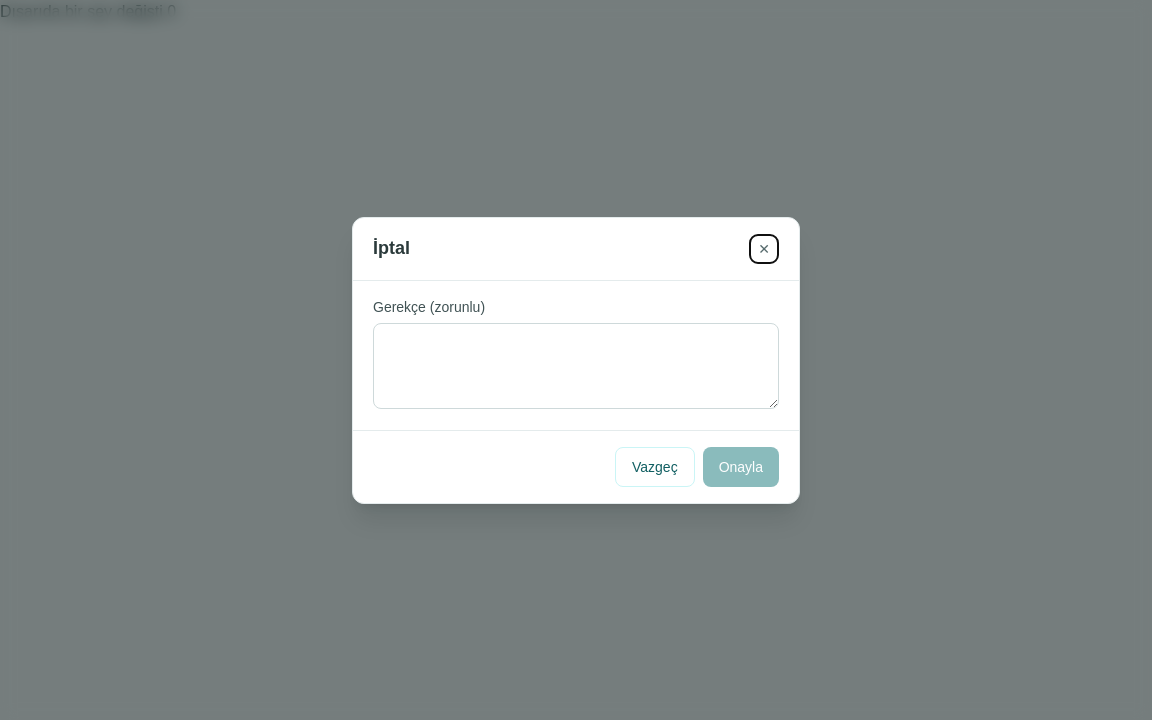
Test case: ConfirmDialog › üst bileşen yeniden render olunca yazılan gerekçe durur
This screenshot has width=1152, height=720.
Type "Mükerrer kayıt" into the text box at {"x": 576, "y": 366}, box left=373, top=322, right=779, bottom=408
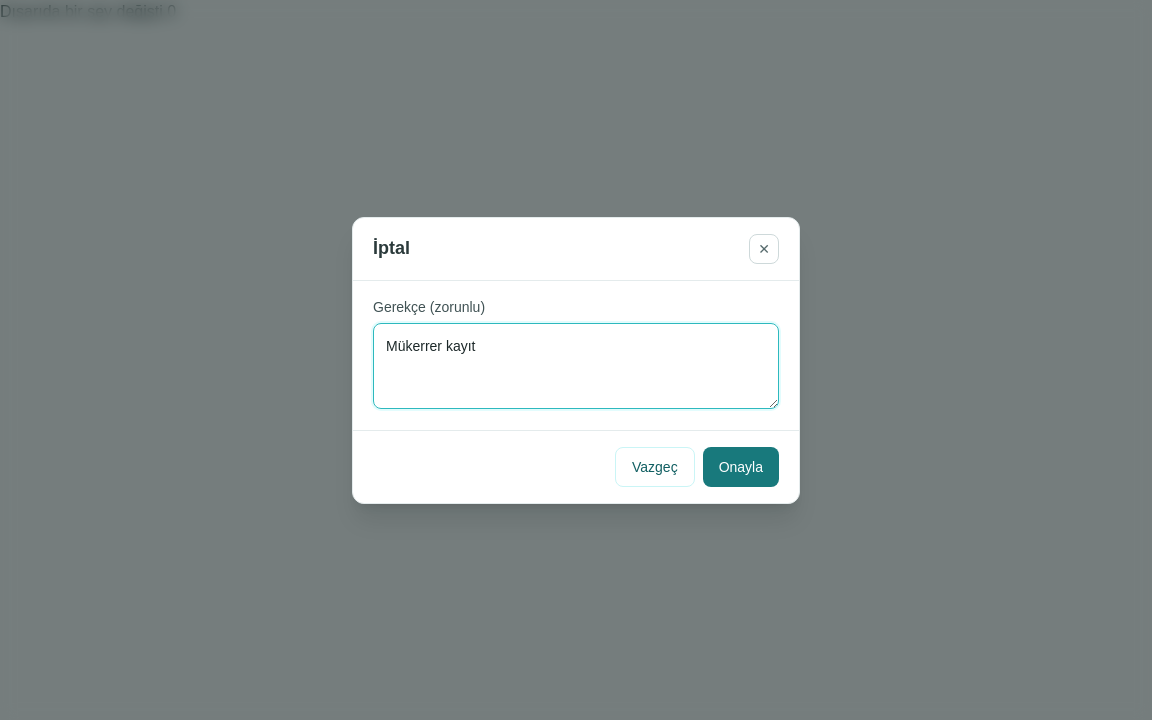
Type " düzeltiliyor" into the text box at {"x": 576, "y": 366}, box left=373, top=322, right=779, bottom=408
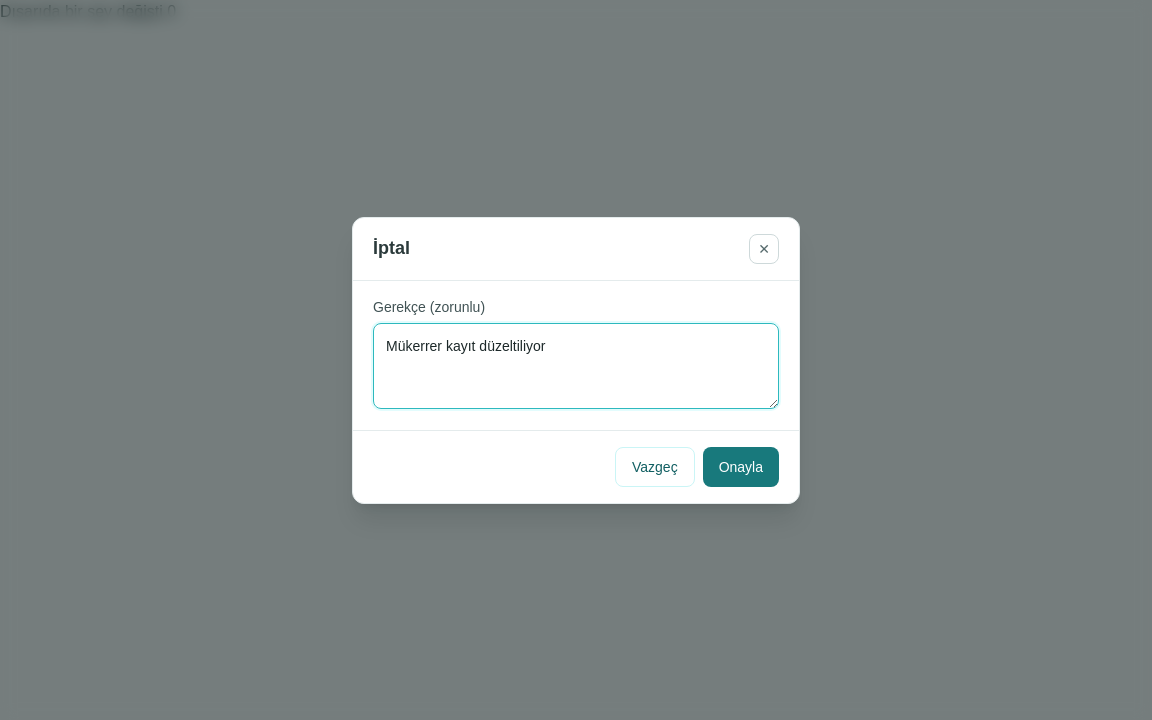
Now the text box holds "Mükerrer kayıt düzeltiliyor", box left=373, top=322, right=779, bottom=408
